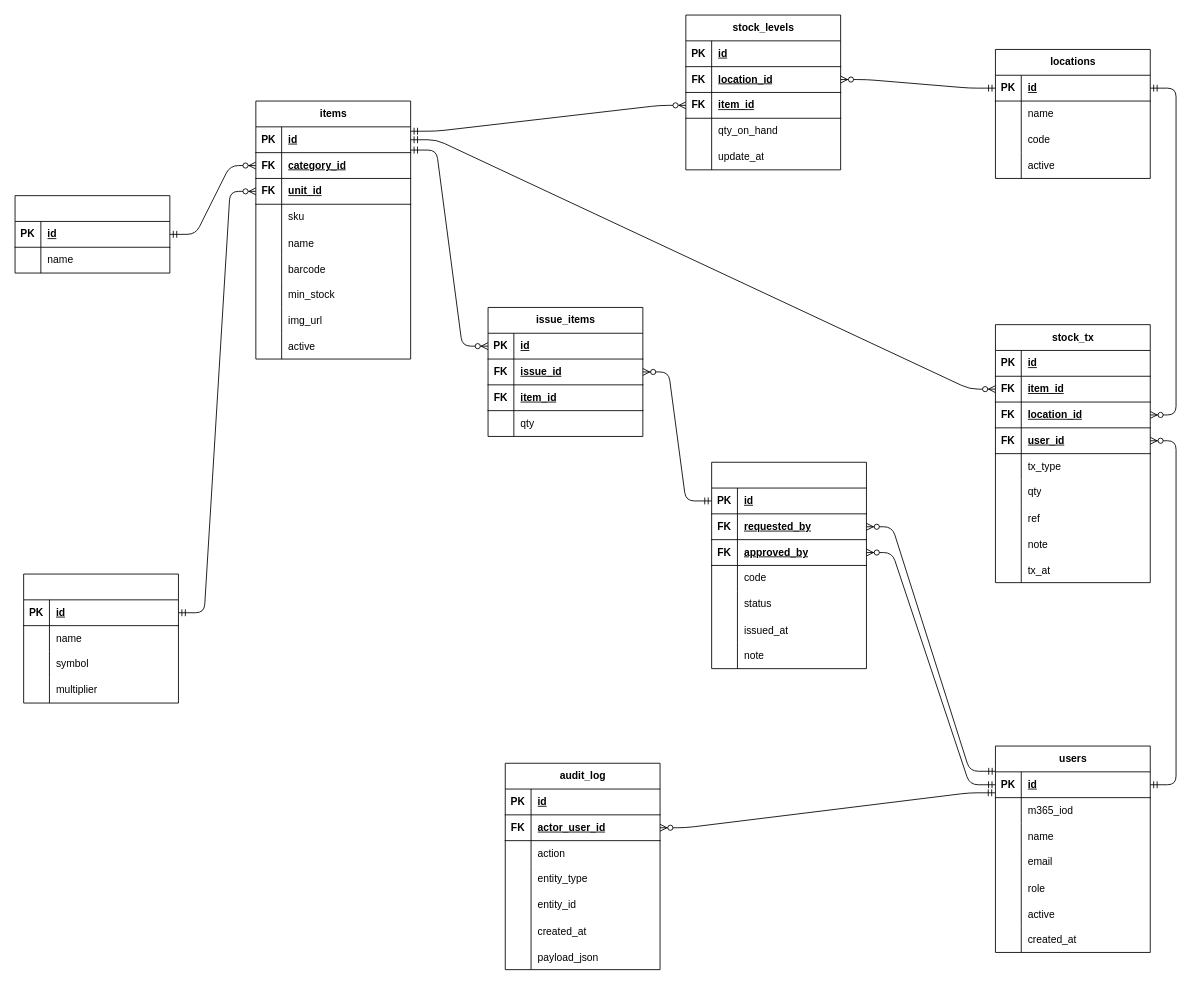
The diagram is 1199 pixels wide and 985 high, and some of its shapes have lost their labels. Here are the shapes that lost their labels. From the top down, the box of each, then its label:
(14, 195, 170, 273): categories
(711, 461, 866, 669): issues
(23, 573, 178, 703): units
